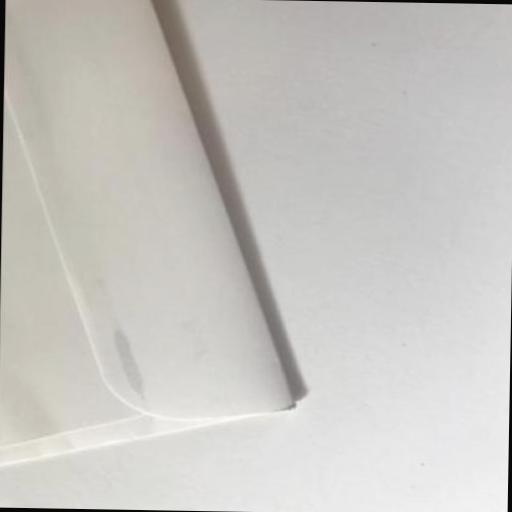paper: (0, 0, 303, 475)
